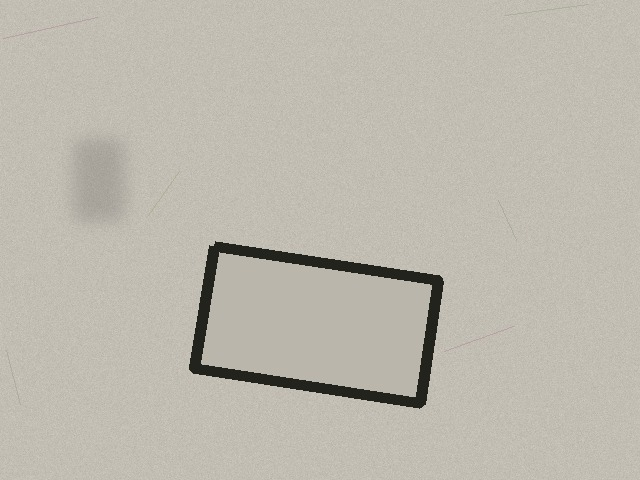parking_area: (194, 246, 438, 403)
